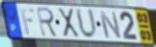2: (119, 10, 139, 42)
F: (19, 7, 35, 36)
N: (98, 10, 123, 40)
R: (36, 6, 60, 39)
U: (74, 7, 99, 41)
X: (56, 7, 81, 39)
